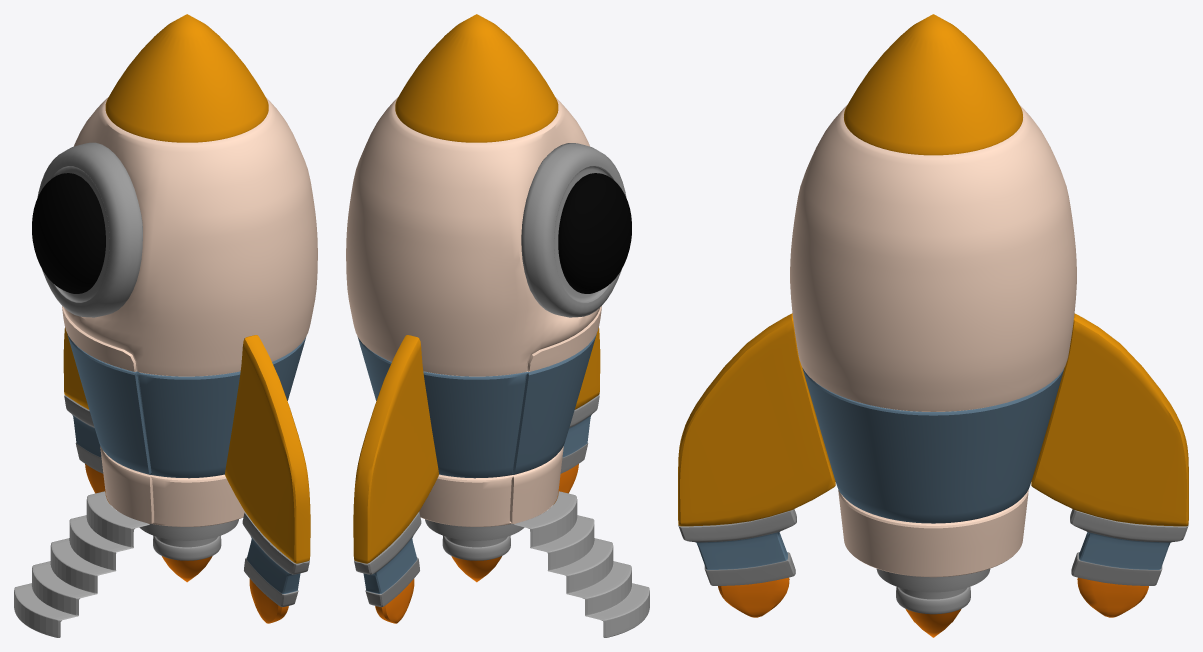
The model's file is rakieta-drzwi.fbx.
3 renders of one model, left to right at view 1: azimuth 30°, elevation 25°; view 2: azimuth 150°, elevation 25°; view 3: azimuth 270°, elevation 25°, orthographic. The views are drawn at different scales.
Visible parts, largest first — view 1: Cylinder, Cylinder.001, Cylinder.007, Cylinder.008, Cylinder.002, Cylinder.003, Cylinder.005, Cylinder.006, Cylinder.004; view 2: Cylinder, Cylinder.001, Cylinder.007, Cylinder.008, Cylinder.002, Cylinder.003, Cylinder.005, Cylinder.006, Cylinder.004; view 3: Cylinder, Cylinder.001, Cylinder.005, Cylinder.006, Cylinder.004.
Boxes of the visible parts, box(x1,y1,x2,y2) form: Cylinder: box(64, 14, 317, 560); Cylinder.001: box(63, 327, 310, 563); Cylinder.007: box(62, 306, 153, 523); Cylinder.008: box(14, 491, 149, 637); Cylinder.002: box(37, 142, 142, 317); Cylinder.003: box(32, 173, 105, 293); Cylinder.005: box(64, 395, 309, 607); Cylinder.006: box(85, 464, 288, 623); Cylinder.004: box(162, 556, 212, 582); Cylinder: box(346, 14, 599, 560); Cylinder.001: box(353, 327, 600, 563); Cylinder.007: box(510, 306, 601, 523); Cylinder.008: box(514, 491, 649, 637); Cylinder.002: box(521, 143, 626, 317); Cylinder.003: box(558, 173, 631, 293); Cylinder.005: box(354, 395, 599, 607); Cylinder.006: box(375, 464, 578, 623); Cylinder.004: box(451, 556, 501, 582); Cylinder: box(790, 14, 1076, 614); Cylinder.001: box(678, 313, 1188, 526); Cylinder.005: box(678, 509, 1188, 585); Cylinder.006: box(718, 577, 1148, 617); Cylinder.004: box(905, 609, 961, 637).
Bounding box in the file's own units: 225 × 445 × 328.
